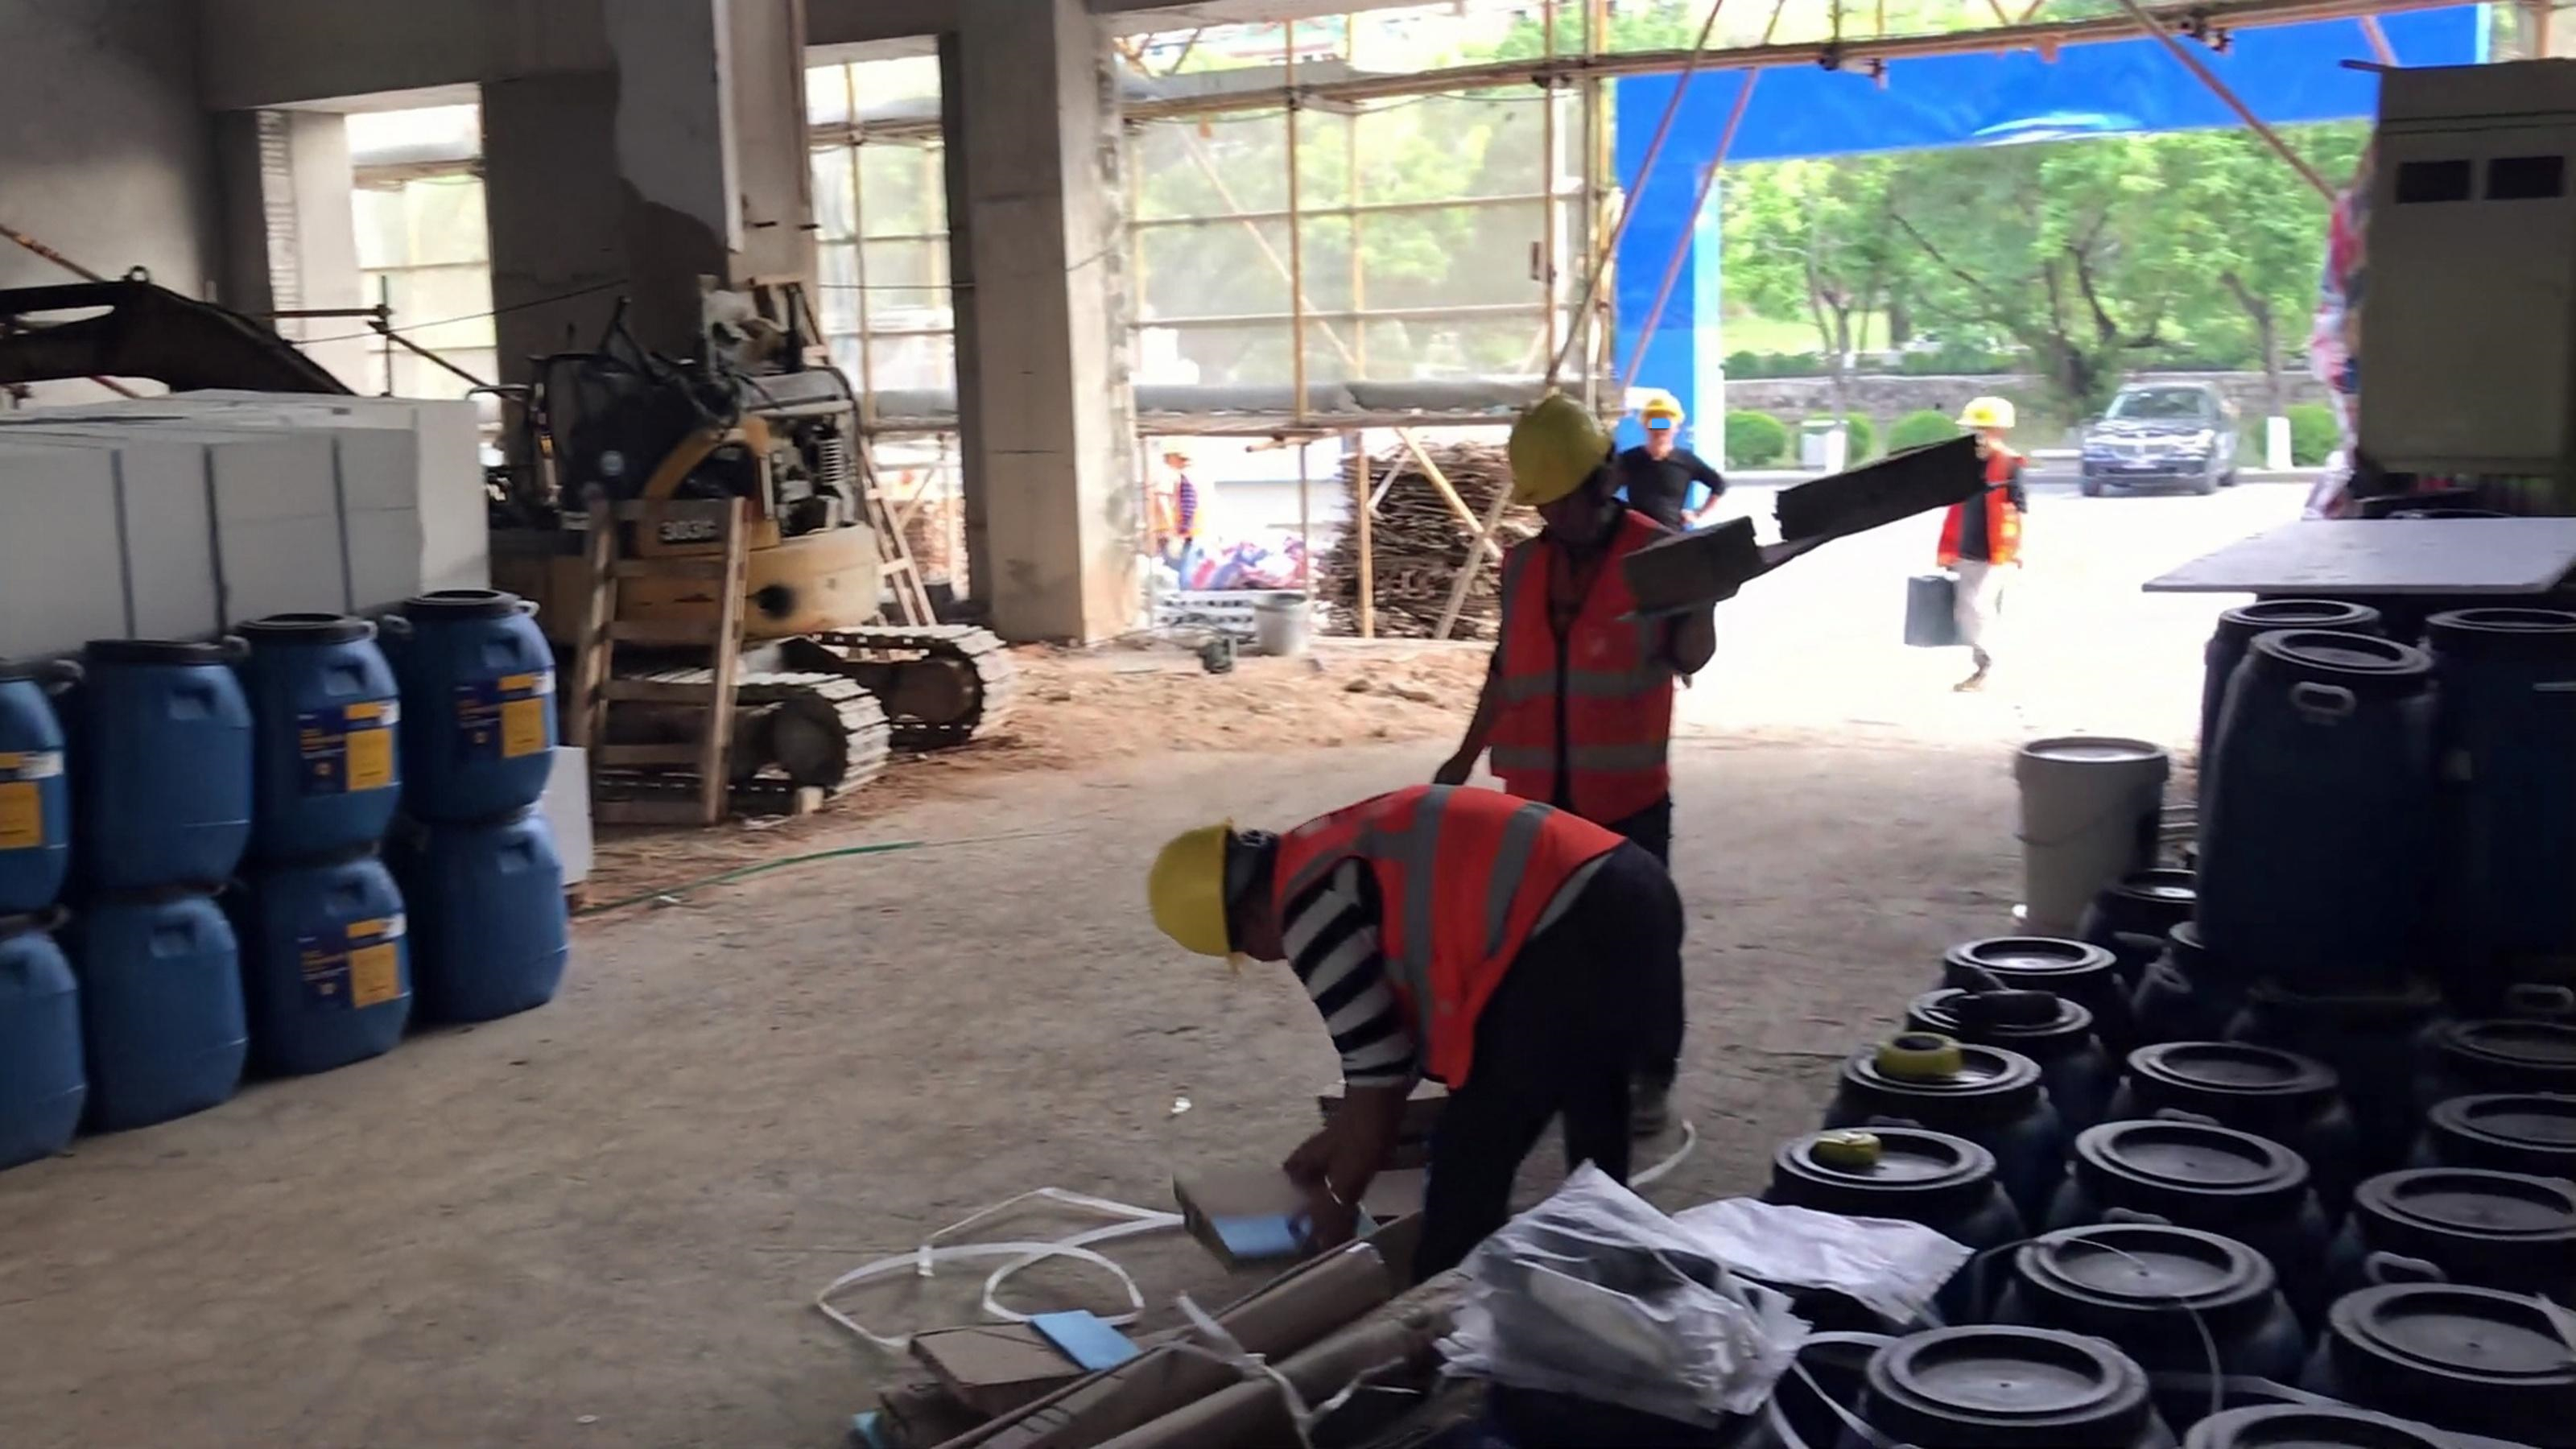helmet: (1146, 810, 1245, 979), (1494, 400, 1621, 514), (1951, 376, 2022, 440), (1637, 385, 1687, 432)
person: (1146, 784, 1723, 1291), (1430, 393, 1795, 1181), (1929, 383, 2037, 715), (1616, 396, 1732, 529)
vest: (1271, 793, 1634, 1098), (1479, 527, 1682, 814), (1938, 434, 2039, 585)
